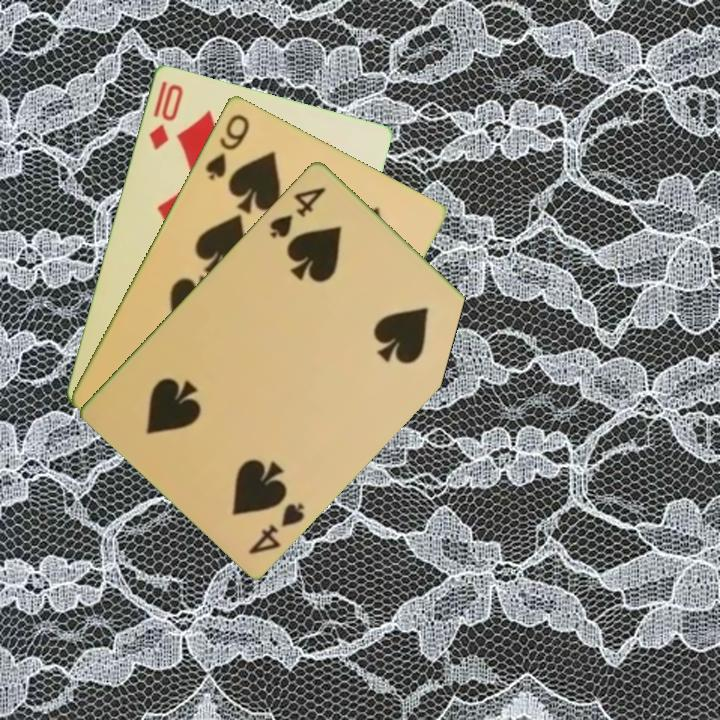10d: (144, 77, 186, 152)
4s: (265, 182, 329, 241), (244, 498, 308, 557)
9s: (201, 109, 253, 183)
